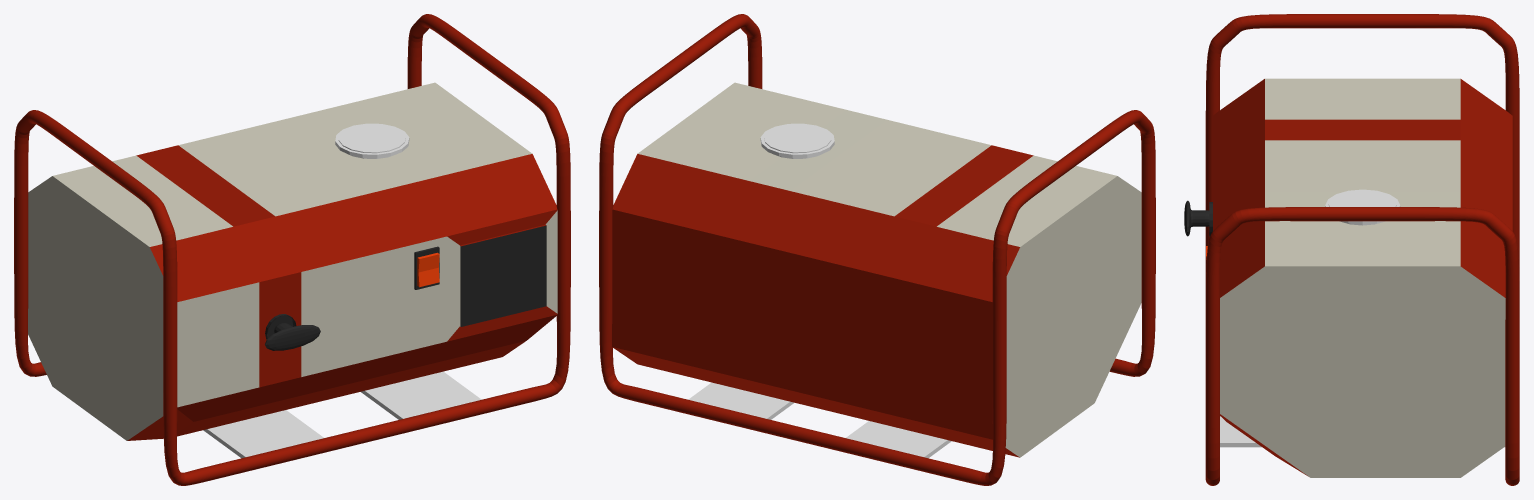
File: Generator.fbx
3 views of the same model, side by side, from view 1: azimuth 30°, elevation 25°; view 2: azimuth 150°, elevation 25°; view 3: azimuth 270°, elevation 25° (orthographic).
Parts seen in each view (by area): view 1: Generator, Frame, Plates, Pulley Handle, Button; view 2: Generator, Frame, Plates; view 3: Generator, Frame, Plates, Pulley Handle.
Boxes of the visible parts, left/top/right/bottom form: Generator: left=28, top=82, right=557, bottom=440; Frame: left=14, top=14, right=570, bottom=485; Plates: left=203, top=371, right=481, bottom=458; Pulley Handle: left=265, top=323, right=320, bottom=350; Button: left=417, top=252, right=439, bottom=287; Generator: left=612, top=82, right=1141, bottom=457; Frame: left=599, top=14, right=1155, bottom=485; Plates: left=688, top=382, right=951, bottom=458; Generator: left=1209, top=78, right=1512, bottom=477; Frame: left=1205, top=14, right=1519, bottom=485; Plates: left=1220, top=416, right=1504, bottom=447; Pulley Handle: left=1184, top=200, right=1209, bottom=236.
Bounding box in the file's own units: 314 × 210 × 224.
